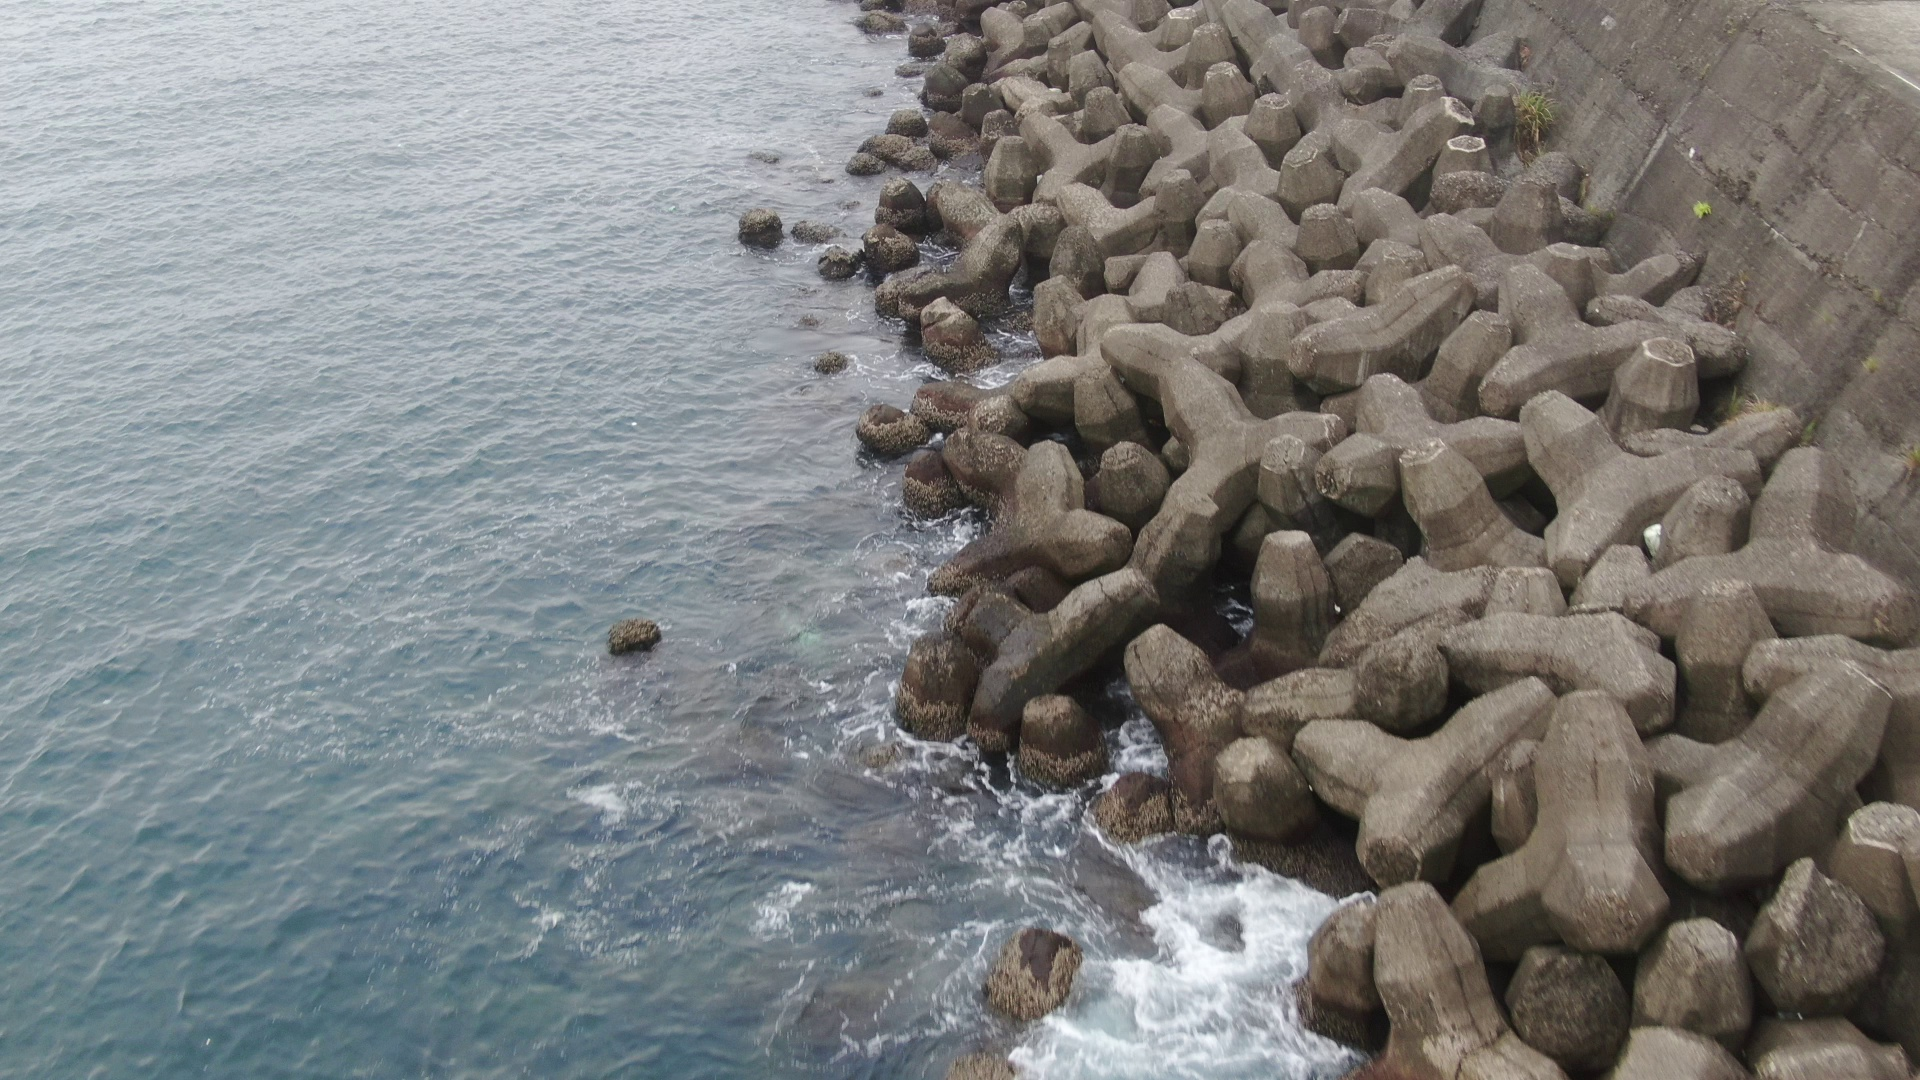garbage: (1640, 513, 1677, 558)
